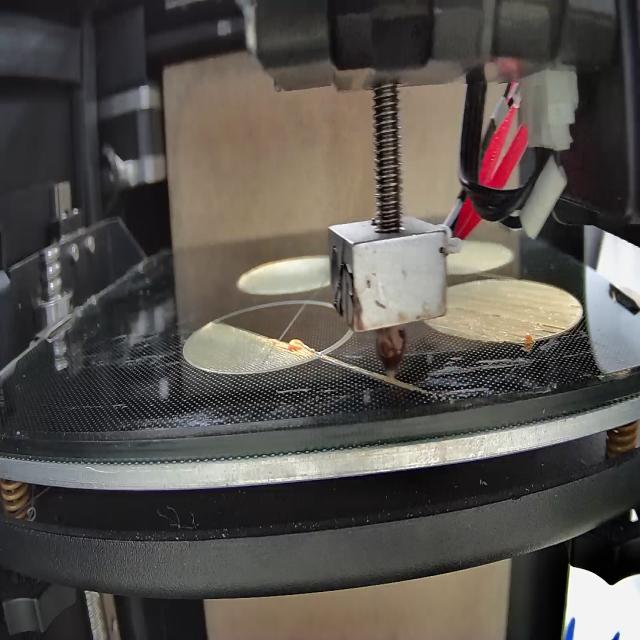under_extrusion: (532, 318, 566, 342), (452, 306, 501, 319), (565, 304, 583, 314)
